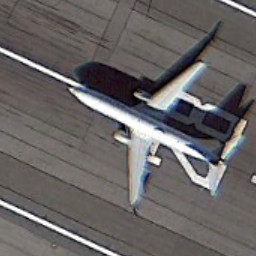Airplane: (63, 38, 250, 226)
